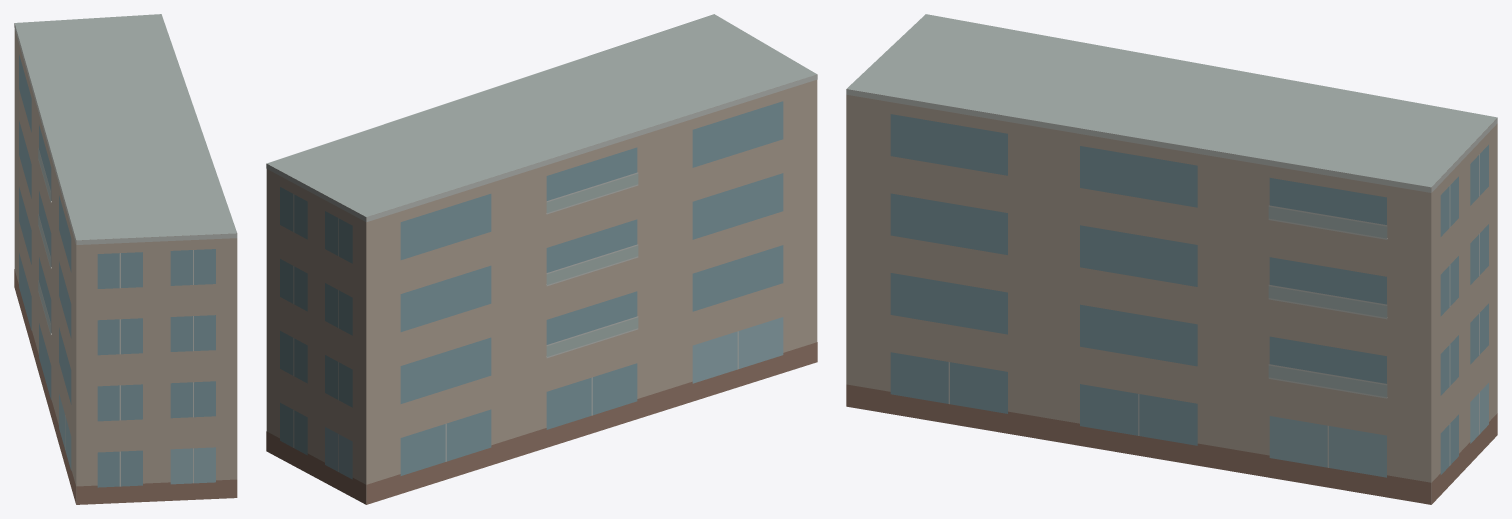
File: survey-upis-32971804.glb
3 views of the same model, side by side, from view 1: azimuth 30°, elevation 25°; view 2: azimuth 150°, elevation 25°; view 3: azimuth 270°, elevation 25° (orthographic). The views are drawn at different scales.
Visible parts, largest first — view 1: survey-upis-32971804.tmp; view 2: survey-upis-32971804.tmp; view 3: survey-upis-32971804.tmp.
Boxes of the visible parts, x1,y1,x2,y2 form: survey-upis-32971804.tmp: (14, 14, 237, 504); survey-upis-32971804.tmp: (266, 14, 817, 504); survey-upis-32971804.tmp: (846, 14, 1497, 504).
Bounding box in the file's own units: 15.93 × 13.6 × 25.29.
